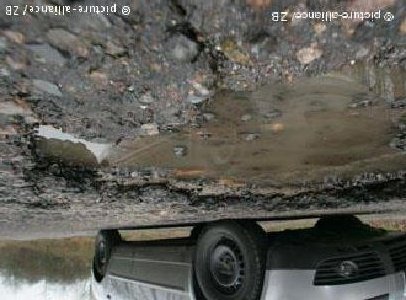pothole: (18, 43, 406, 216)
